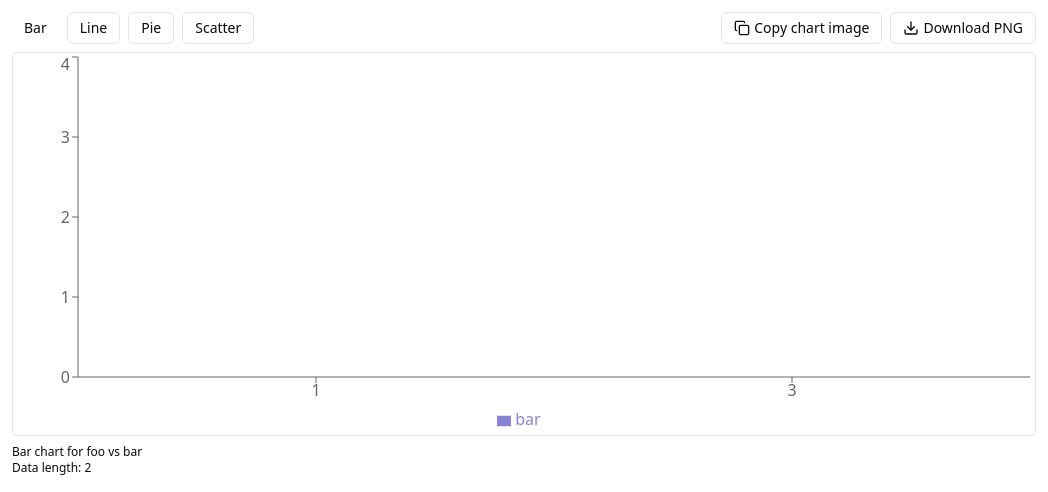
it: ChartBlock › shows chart type switcher and switches chart type
Expected: the button "Bar" is shown, left=12, top=12, right=59, bottom=44
Expected: the button "Pie" is shown, left=128, top=12, right=174, bottom=44
Note: Switch to line
Click the button "Line" at (94,28), box left=67, top=12, right=120, bottom=44
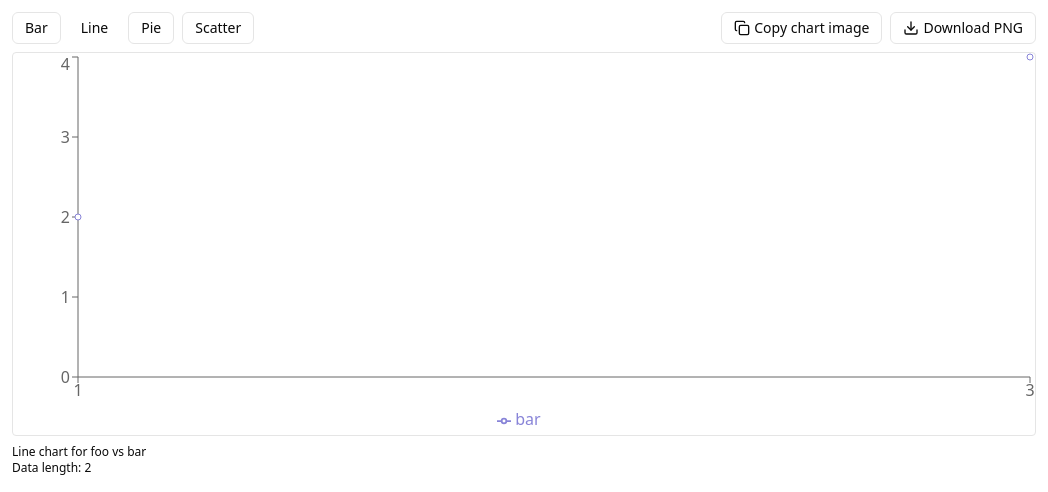
Now the text "Line chart for foo vs bar" is shown, box left=12, top=443, right=146, bottom=460
Note: Switch to pie
Click the button "Pie" at (151,28), box left=128, top=12, right=174, bottom=44
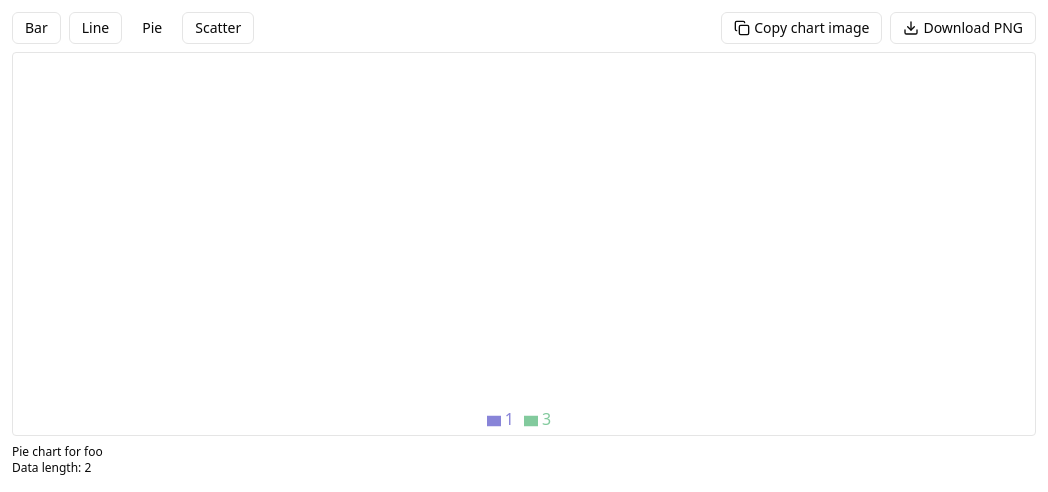
Now the text "Pie chart for foo" is shown, box left=12, top=443, right=103, bottom=460
